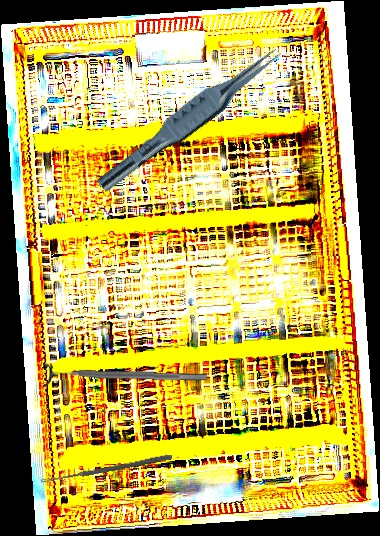Fixation Ring: (42, 361, 208, 391)
Surgical Spoon: (40, 453, 173, 485)
Tissue Forceps: (95, 35, 286, 204)
